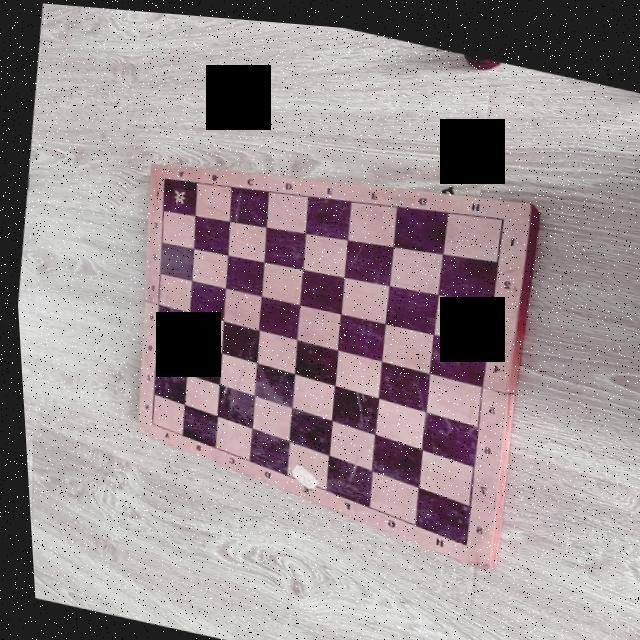chess-table-corners: (156, 170, 168, 182), (494, 206, 506, 216), (453, 533, 464, 543), (142, 417, 151, 426)
